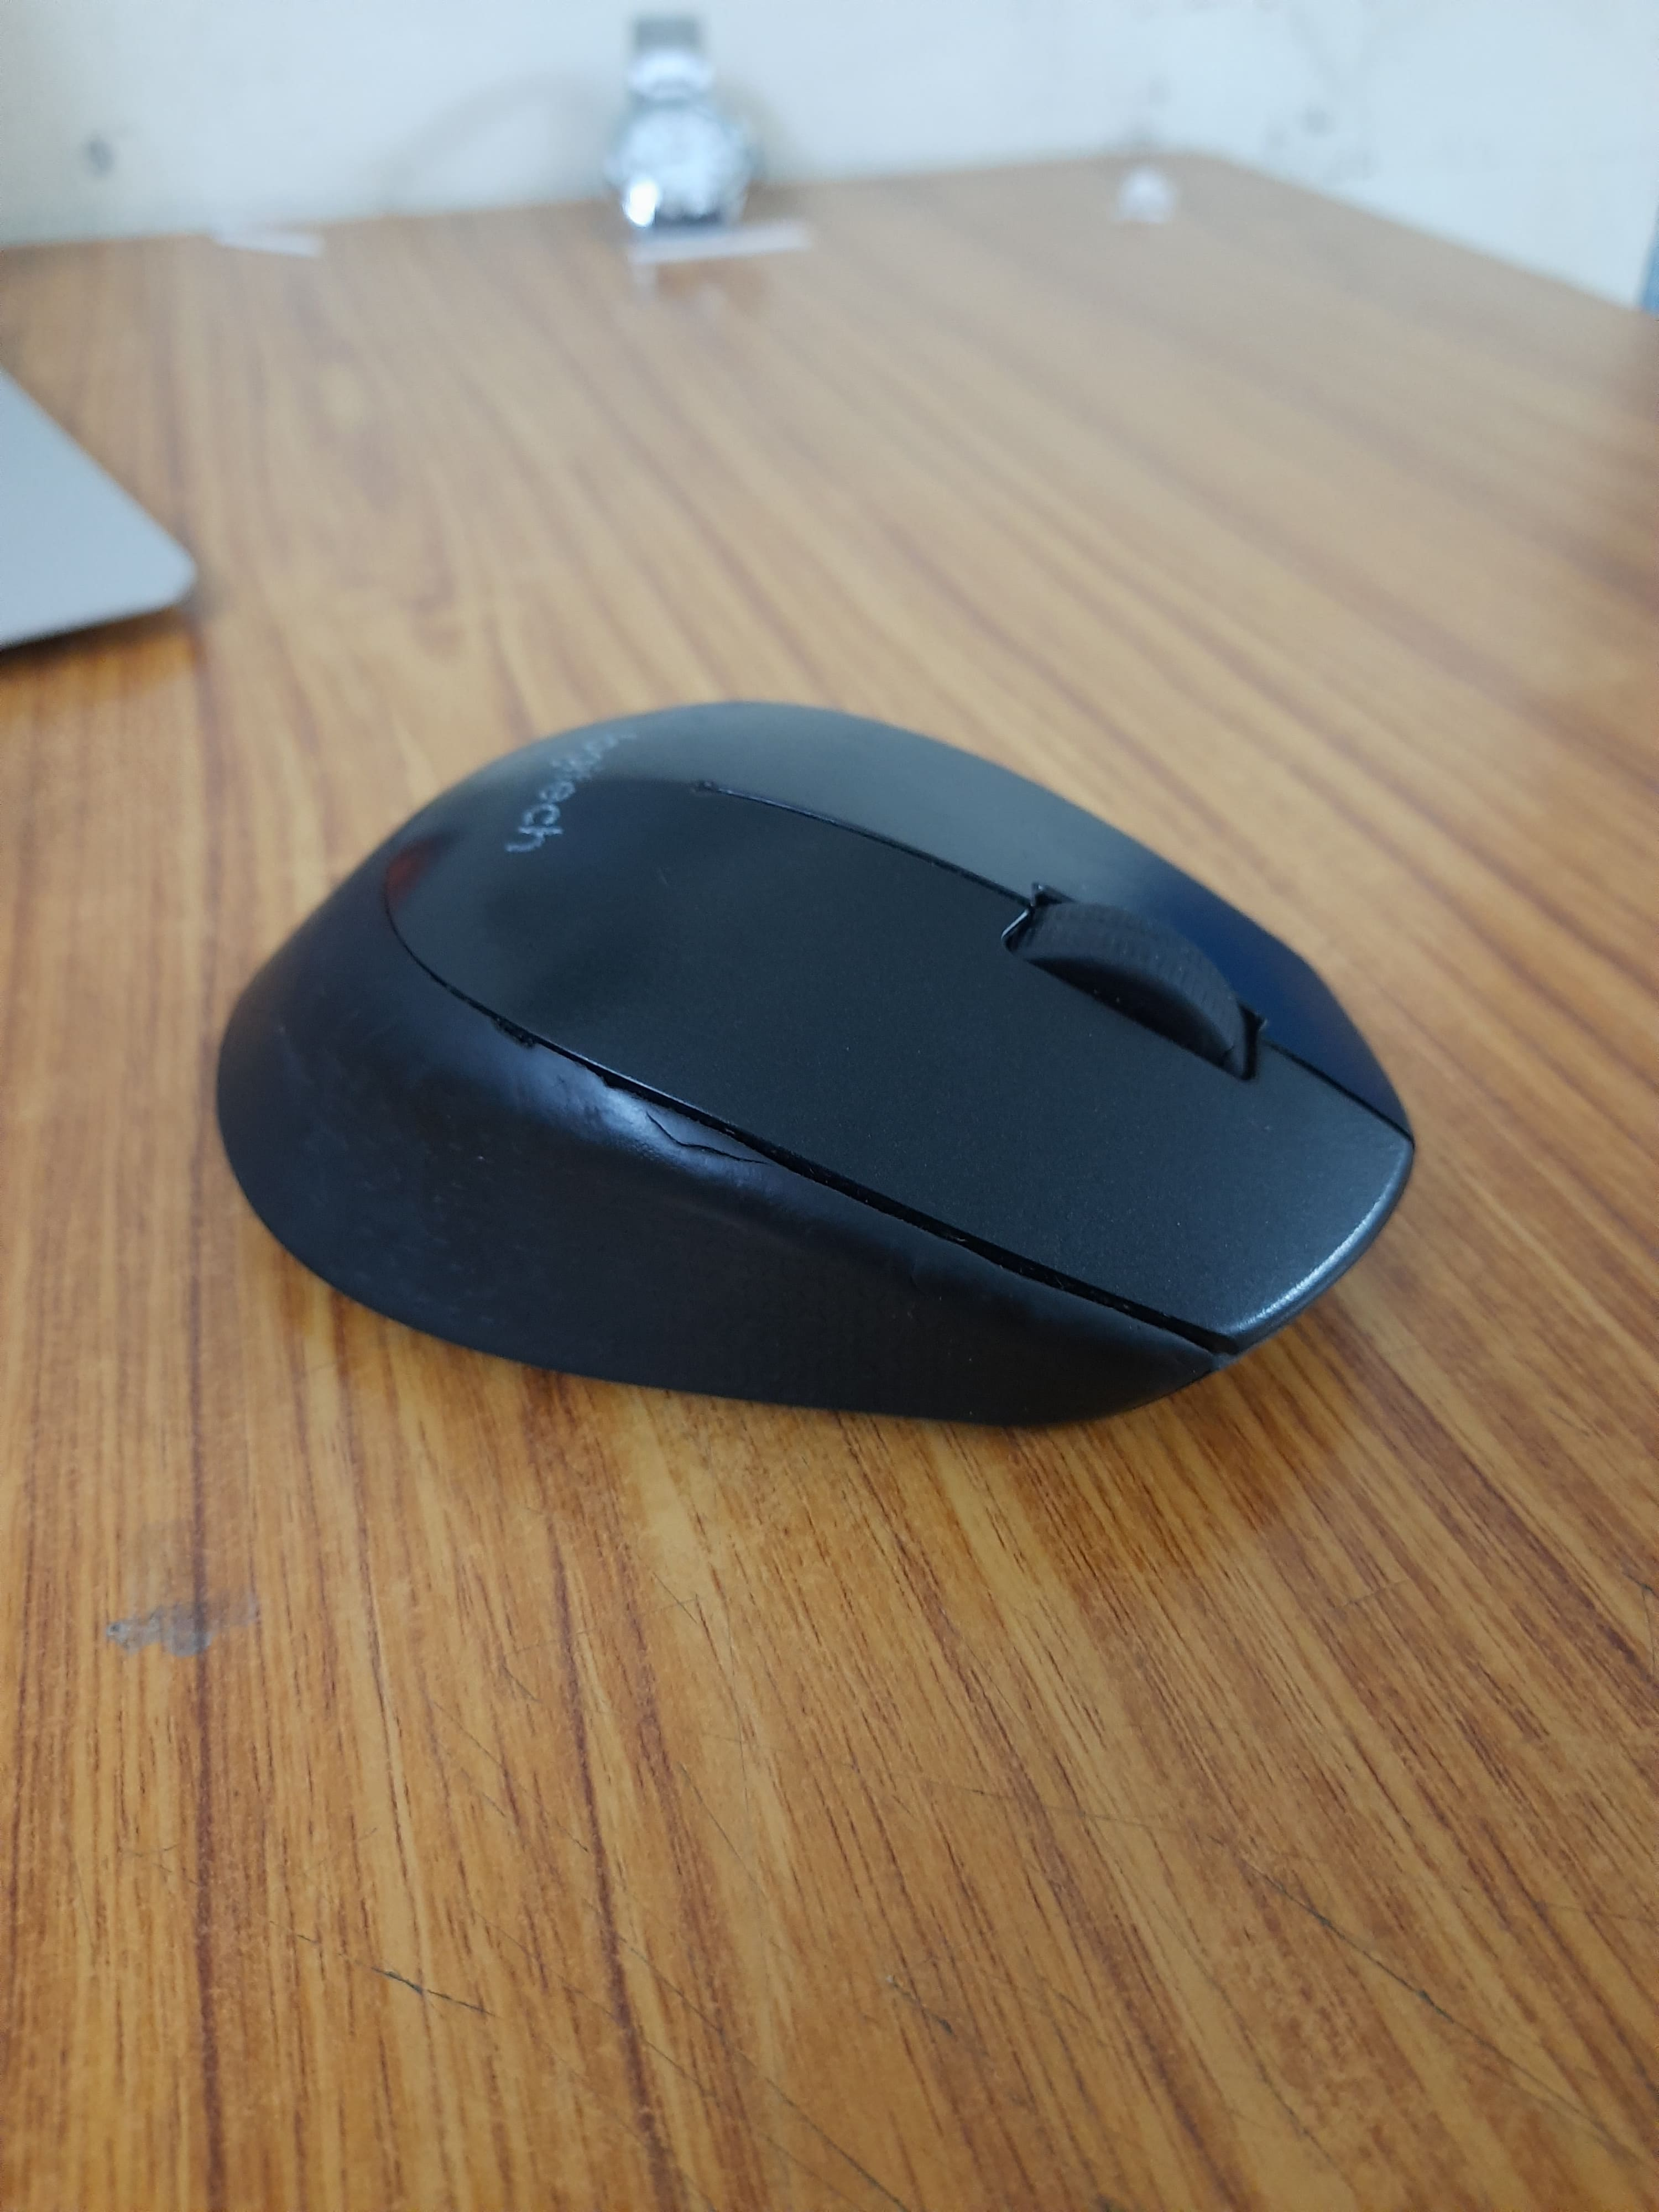Vikash's Mouse: (206, 686, 1420, 1440)
